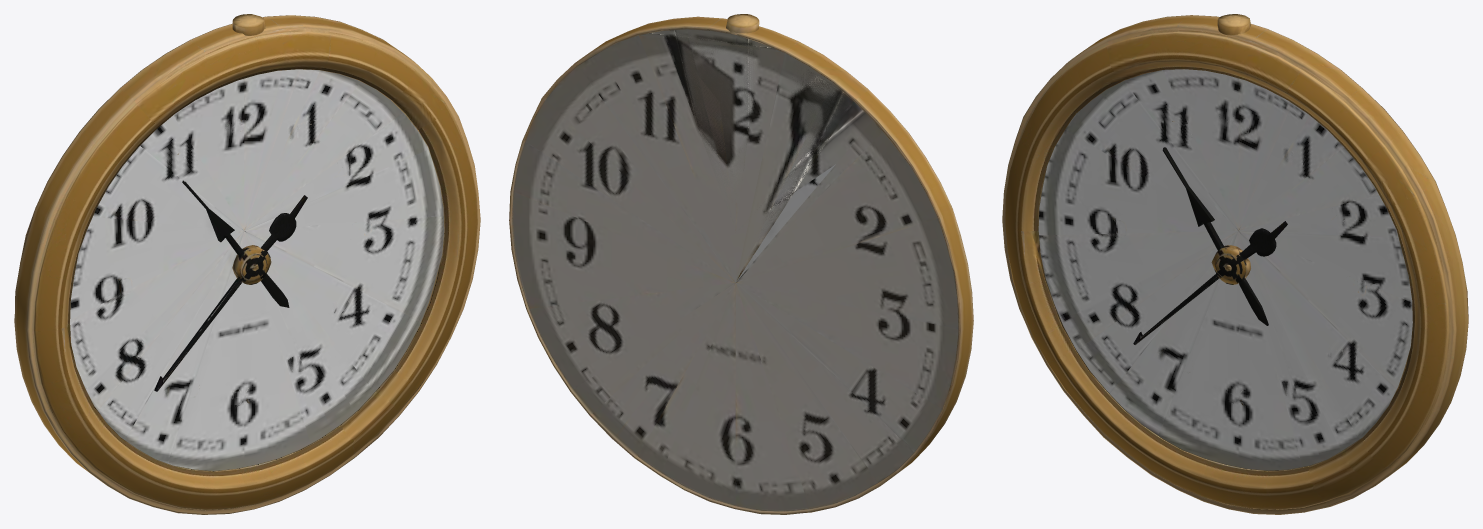
File: barometer.glb
3 renders of one model, left to right at view 1: azimuth 30°, elevation 25°; view 2: azimuth 150°, elevation 25°; view 3: azimuth 330°, elevation 25°, orthographic.
Size of the model in its own units: 0.9272 by 0.9507 by 0.0747.
1 material, 1 textured.
